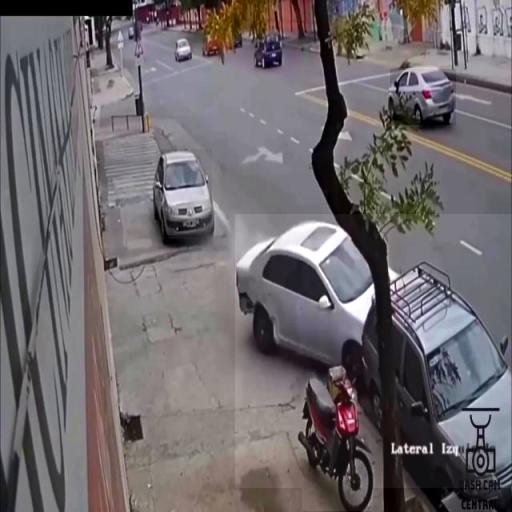小汽车: (156, 150, 212, 238), (390, 69, 456, 125)
小汽车撞小汽车: (235, 214, 512, 488)
自行车: (302, 367, 373, 511)
